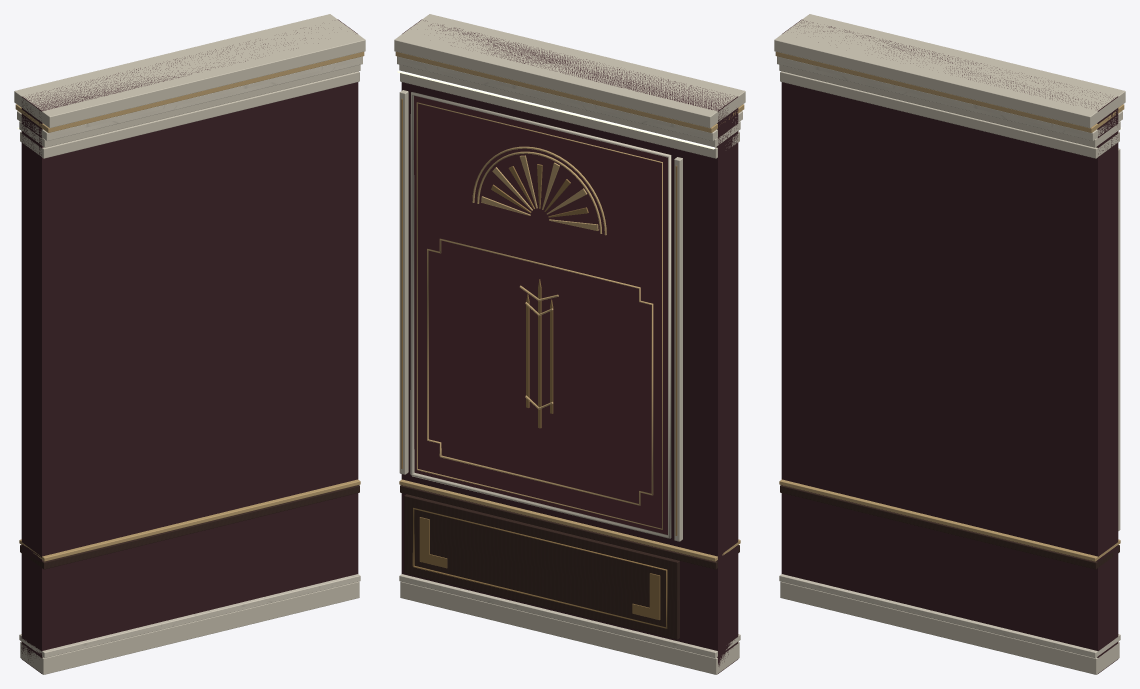
Rendered from casino-deco-casino-wall-ws.glb.
3 views of the same model, side by side, from view 1: azimuth 30°, elevation 25°; view 2: azimuth 150°, elevation 25°; view 3: azimuth 330°, elevation 25° (orthographic).
Parts seen in each view (by area): view 1: casino-wall-ws / Entry deep oxblood reveals, casino-wall-ws / Entry carved limestone, casino-wall-ws / Entry ivory marble, casino-wall-ws / Entry champagne brass, casino-wall-ws / Entry dark walnut; view 2: casino-wall-ws / Entry smoky oxblood lacquer, casino-wall-ws / Entry deep oxblood reveals, casino-wall-ws / Entry carved limestone, casino-wall-ws / Entry dark walnut, casino-wall-ws / Entry champagne brass, casino-wall-ws / Entry aged bronze, casino-wall-ws / Entry ivory marble, casino-wall-ws / Entry warm opal; view 3: casino-wall-ws / Entry deep oxblood reveals, casino-wall-ws / Entry carved limestone, casino-wall-ws / Entry ivory marble, casino-wall-ws / Entry champagne brass, casino-wall-ws / Entry dark walnut.
Part boxes in pixels (<box>): casino-wall-ws / Entry deep oxblood reveals: <box>21,19,358,673</box>; casino-wall-ws / Entry carved limestone: <box>14,14,365,674</box>; casino-wall-ws / Entry ivory marble: <box>17,56,362,658</box>; casino-wall-ws / Entry champagne brass: <box>15,51,364,561</box>; casino-wall-ws / Entry dark walnut: <box>20,485,359,569</box>; casino-wall-ws / Entry smoky oxblood lacquer: <box>414,95,667,534</box>; casino-wall-ws / Entry deep oxblood reveals: <box>401,19,738,673</box>; casino-wall-ws / Entry carved limestone: <box>394,14,745,674</box>; casino-wall-ws / Entry dark walnut: <box>400,485,739,639</box>; casino-wall-ws / Entry champagne brass: <box>395,51,744,561</box>; casino-wall-ws / Entry aged bronze: <box>401,98,677,628</box>; casino-wall-ws / Entry ivory marble: <box>397,56,742,658</box>; casino-wall-ws / Entry warm opal: <box>397,70,714,149</box>; casino-wall-ws / Entry deep oxblood reveals: <box>781,19,1118,673</box>; casino-wall-ws / Entry carved limestone: <box>774,14,1125,674</box>; casino-wall-ws / Entry ivory marble: <box>777,56,1122,658</box>; casino-wall-ws / Entry champagne brass: <box>775,51,1124,561</box>; casino-wall-ws / Entry dark walnut: <box>780,485,1119,569</box>.
Size of the model in its own units: 4 by 6.8 by 0.78.
8 materials, 2 textured.
